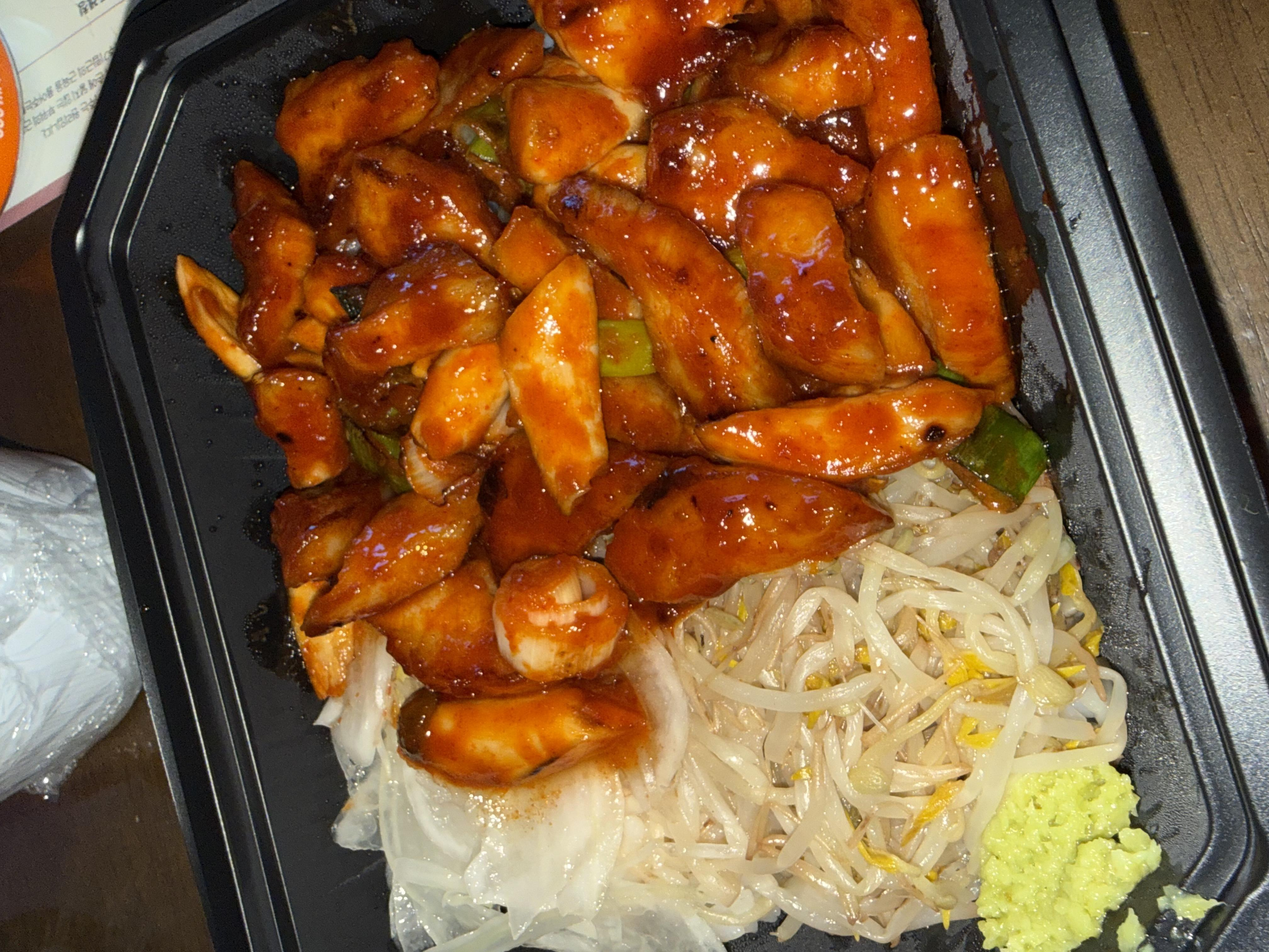Lunch Box: (0, 41, 1269, 952)
